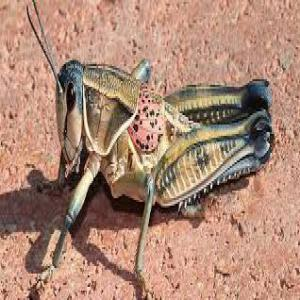locust: (36, 33, 285, 220)
